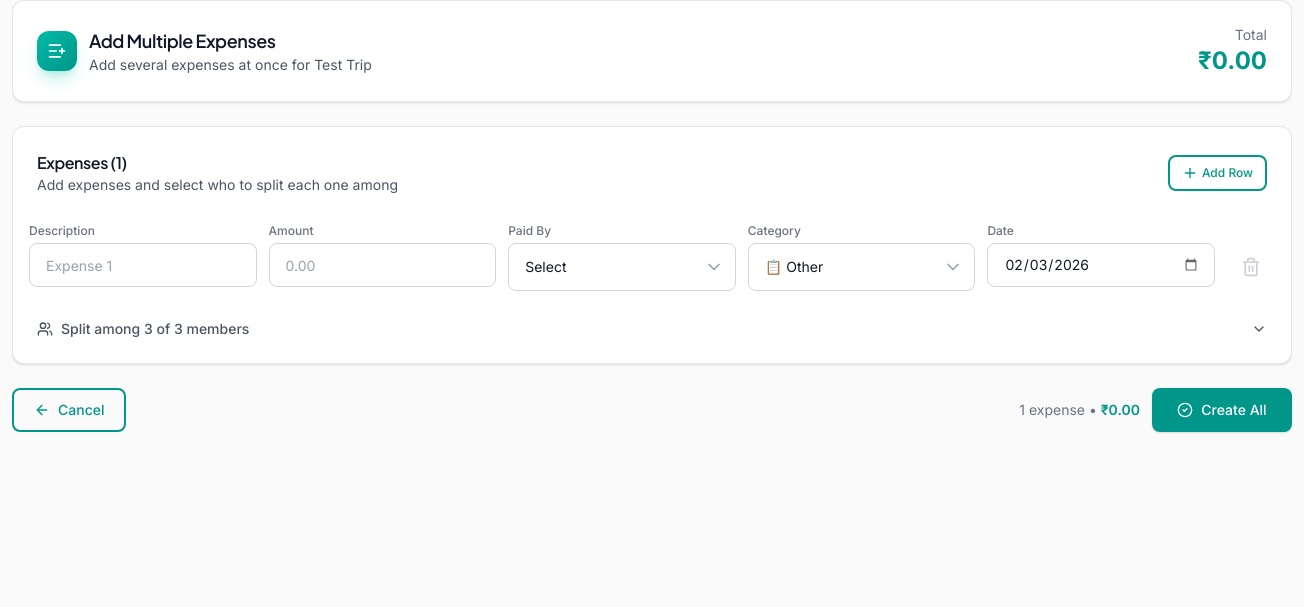
Test: BulkExpenseForm › adds a new expense row when Add Row is clicked
expect the heading "Expenses (1)" is shown: met, box [37,152,127,173]
Click the button "Add Row" at (1217, 173), box [1168,155,1267,191]
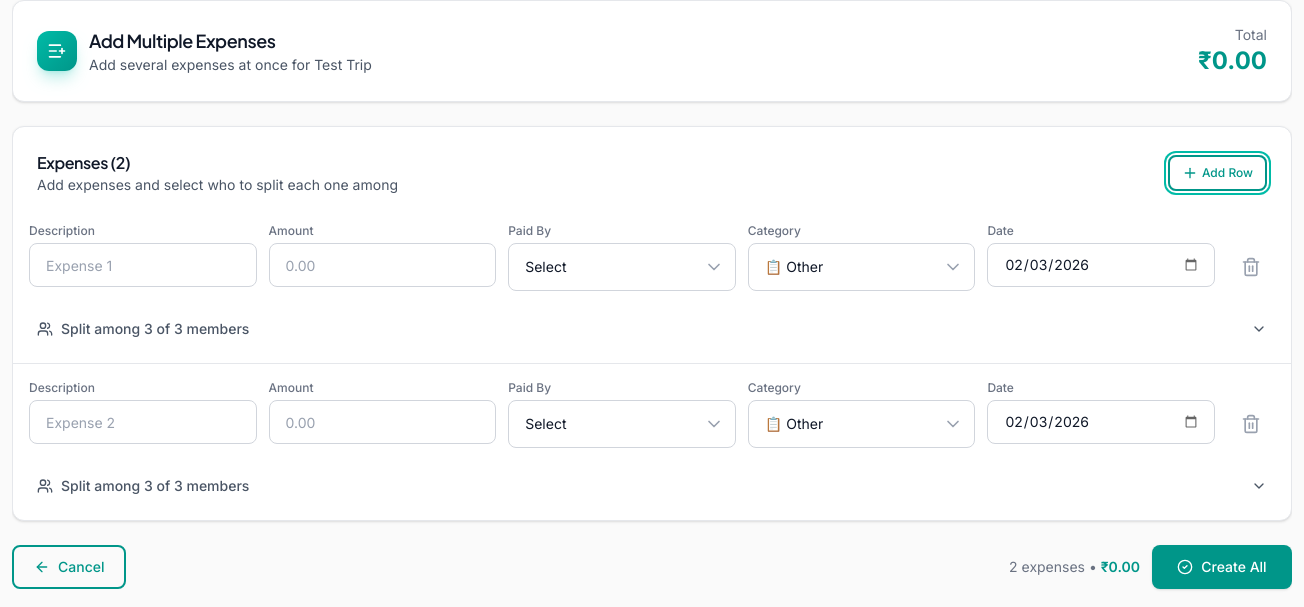
expect the heading "Expenses (2)" is shown: met, box [37,152,130,173]
